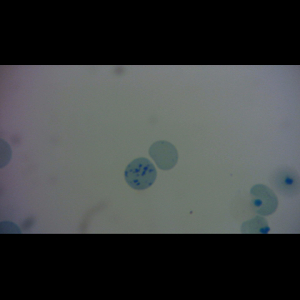aggregate reticulocyte: (124, 157, 157, 191)
erythrocyte: (249, 183, 279, 217)
punctate reticulocyte: (148, 140, 179, 171)
